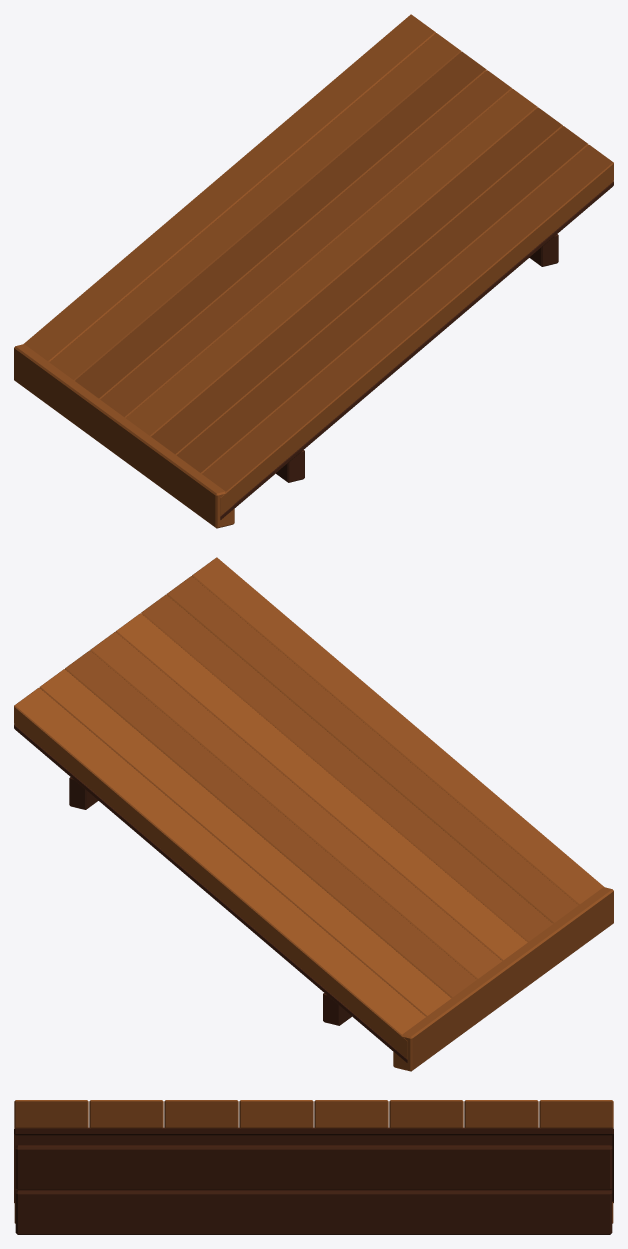
File: QH_Roof_Slope_2m.fbx
The picture shows the model from 3 angles, top to bottom: view 1: azimuth 30°, elevation 25°; view 2: azimuth 150°, elevation 25°; view 3: azimuth 270°, elevation 25°; orthographic projection. The views are drawn at different scales.
Parts seen in each view (by area): view 1: QH_Roof_Slope_2m; view 2: QH_Roof_Slope_2m; view 3: QH_Roof_Slope_2m.
Boxes of the visible parts, x1=… form: QH_Roof_Slope_2m: x1=14, y1=14, x2=613, y2=528; QH_Roof_Slope_2m: x1=14, y1=557, x2=613, y2=1071; QH_Roof_Slope_2m: x1=14, y1=1100, x2=613, y2=1234.
Bounding box in the file's own units: 2.26 × 1.46 × 2.
